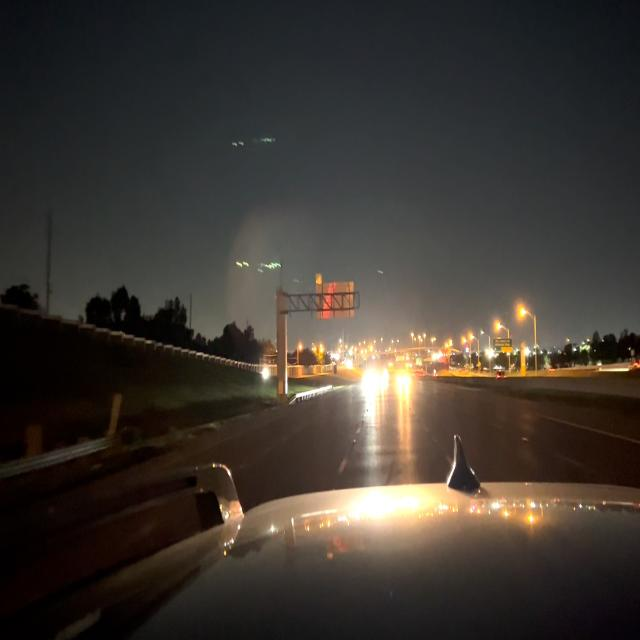back-of-sign: (317, 283, 354, 319)
